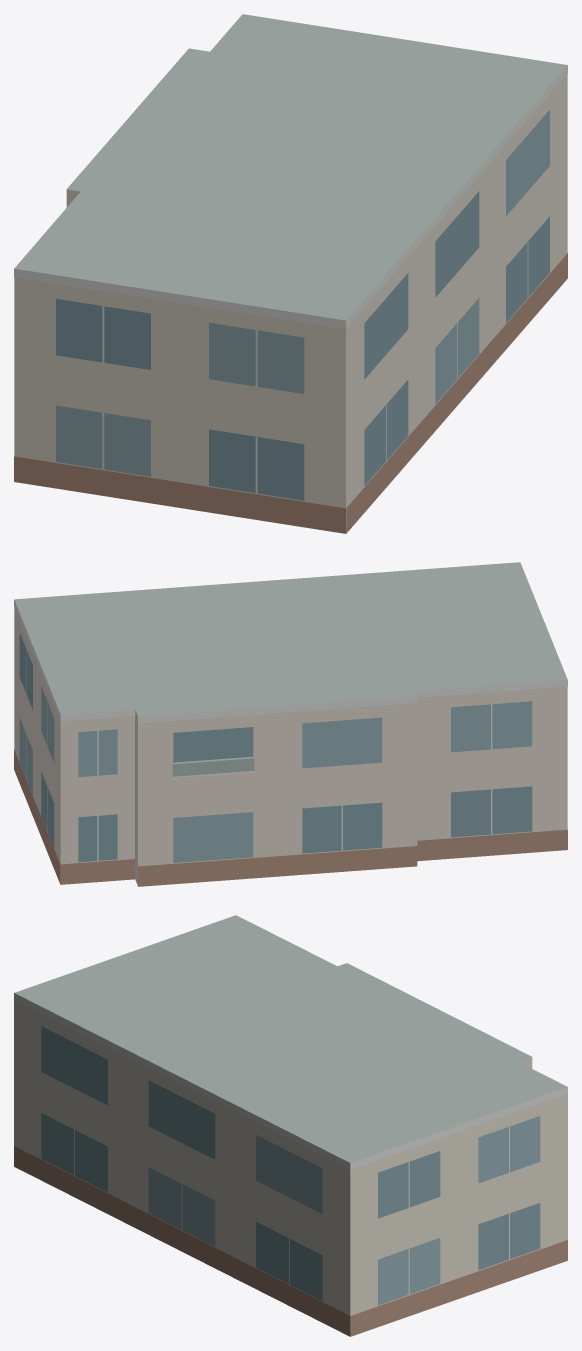
Rendered from survey-upis-32772489.glb.
3 renders of one model, top to bottom at view 1: azimuth 30°, elevation 25°; view 2: azimuth 150°, elevation 25°; view 3: azimuth 270°, elevation 25°, orthographic. The views are drawn at different scales.
Visible parts, largest first — view 1: survey-upis-32772489.tmp; view 2: survey-upis-32772489.tmp; view 3: survey-upis-32772489.tmp.
Boxes of the visible parts, <box> form: survey-upis-32772489.tmp: <box>14,14,567,533</box>; survey-upis-32772489.tmp: <box>14,562,567,886</box>; survey-upis-32772489.tmp: <box>14,915,567,1336</box>.
Bounding box in the file's own units: 18.67 × 6.1 × 17.62.
